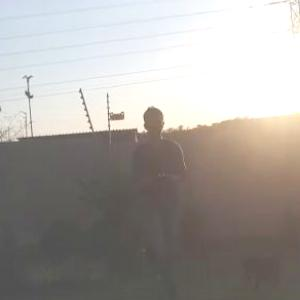follow: (124, 103, 191, 299)
